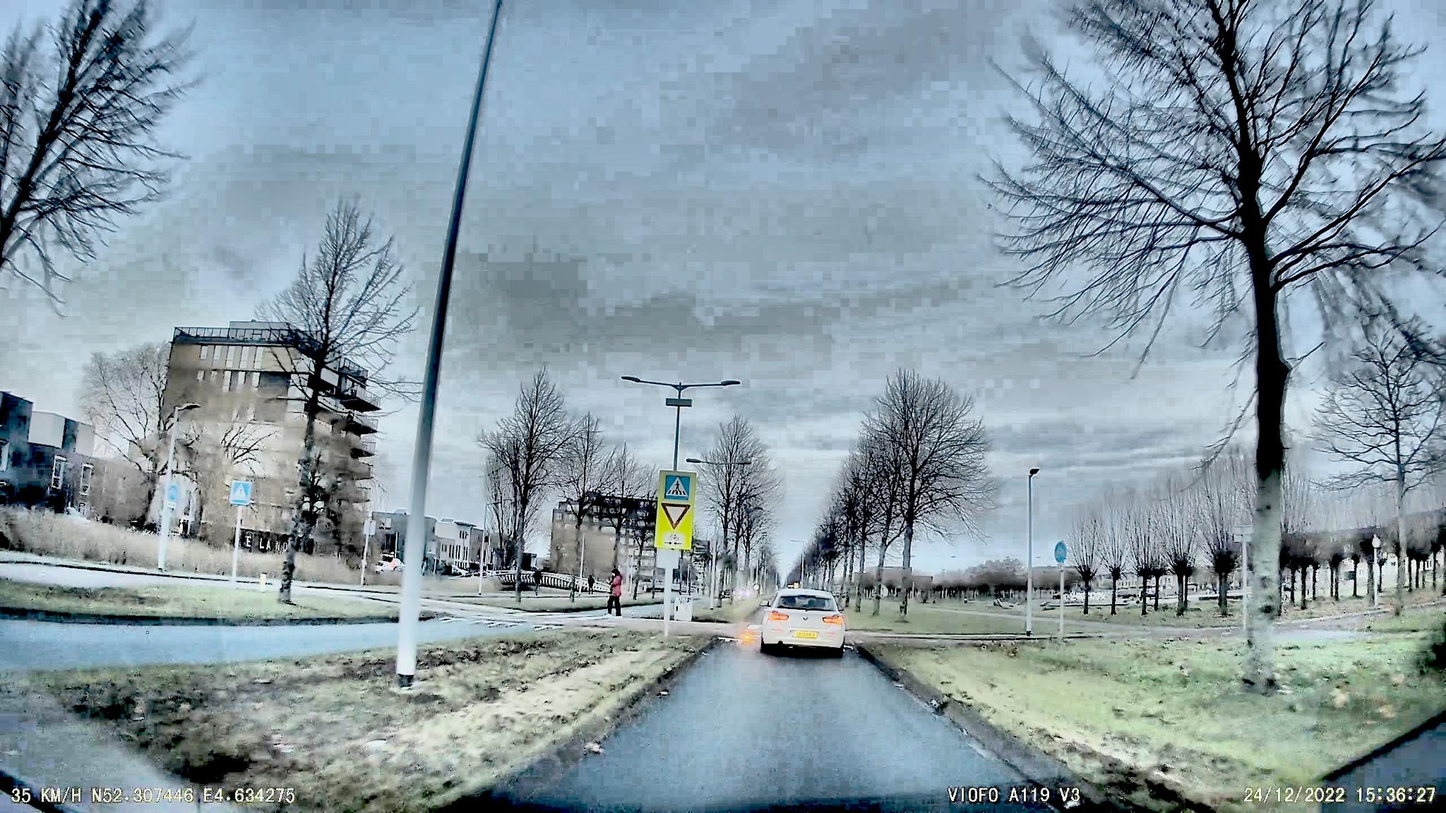Roads: (473, 641, 1062, 813)
